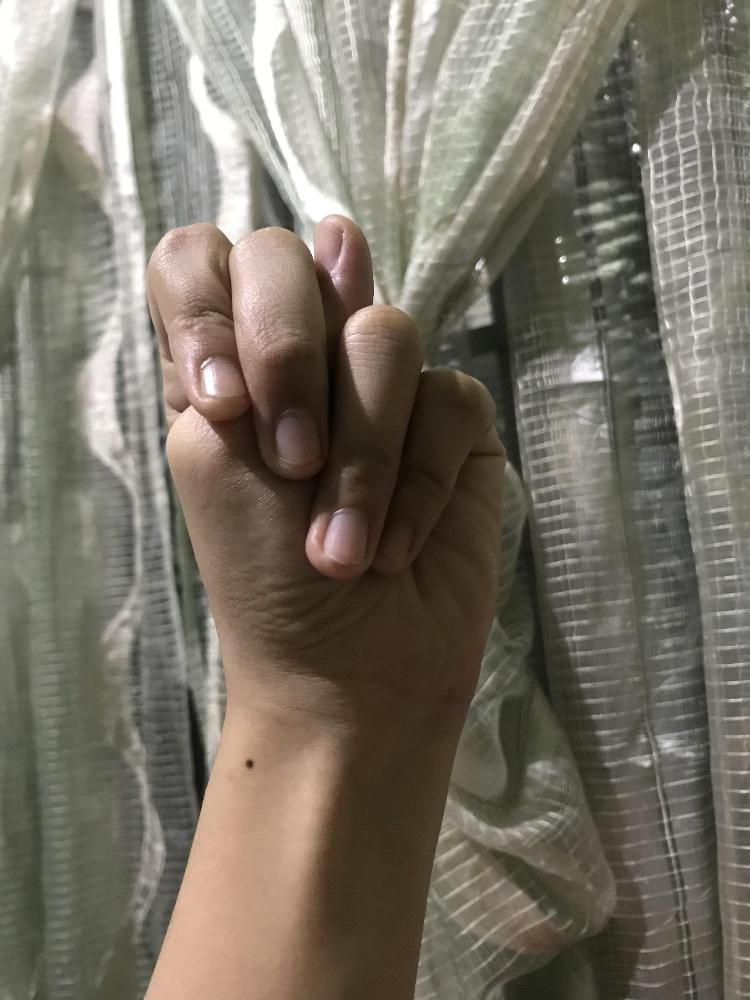n: (136, 205, 508, 716)
